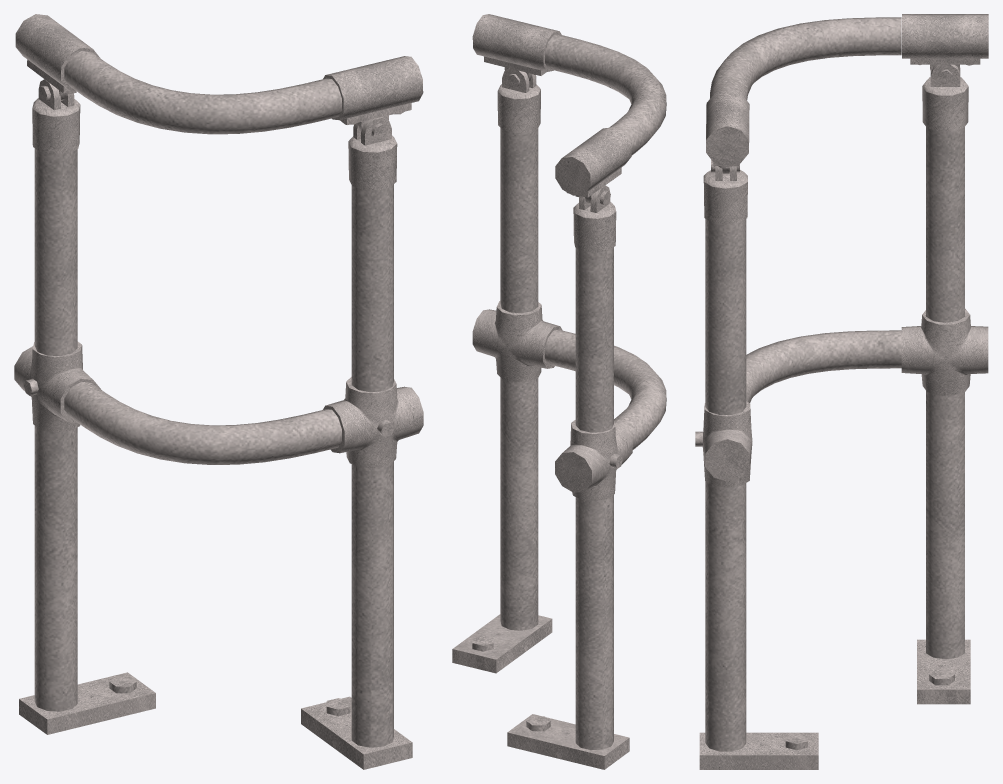
Rendered from SM_Railing_01h.glb.
3 views of the same model, side by side, from view 1: azimuth 30°, elevation 25°; view 2: azimuth 150°, elevation 25°; view 3: azimuth 270°, elevation 25° (orthographic). The views are drawn at different scales.
Parts seen in each view (by area): view 1: SM_Railing_01h; view 2: SM_Railing_01h; view 3: SM_Railing_01h.
Part boxes in pixels (box(x1,y1,x2,y2)): SM_Railing_01h: box(14, 14, 423, 769); SM_Railing_01h: box(452, 14, 666, 769); SM_Railing_01h: box(695, 14, 988, 769).
Size of the model in its own units: 0.4211 by 1.03 by 0.421.
Materials: 1 (1 with a texture image).
